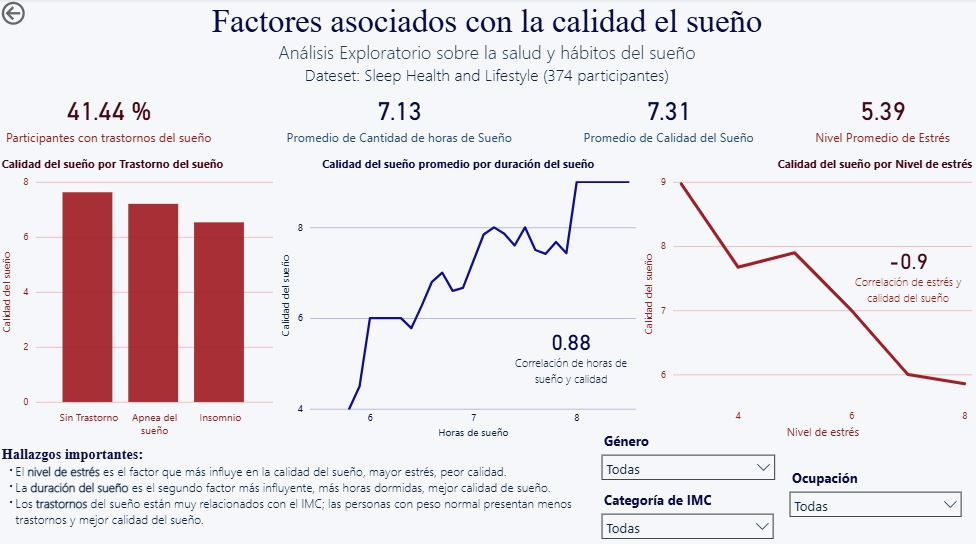

The dashboard page shown, as its layout file describes it:
{"tool":"powerbi","page":{"name":"Página 1","canvas":[1280,720],"ordinal":0},"visuals":[{"type":"textbox","box":[0,0,1280,123.3],"z":0},{"type":"card","fields":{"Values":["Avg(Sleep_health_and_lifestyle_dataset.Quality of Sleep)"]},"box":[740,106.7,276.7,100],"z":1000},{"type":"card","fields":{"Values":["Avg(Sleep_health_and_lifestyle_dataset.Sleep Duration)"]},"box":[365,106.6,320,100],"z":2000},{"type":"card","fields":{"Values":["Avg(Sleep_health_and_lifestyle_dataset.Stress Level)"]},"box":[1035,106.7,245,100],"z":3000},{"type":"card","fields":{"Values":["Sleep_health_and_lifestyle_dataset.Con_trastorno"]},"box":[0,106.6,290,100],"z":4000},{"type":"slicer","fields":{"Values":["Sleep_health_and_lifestyle_dataset.Gender"]},"box":[780,563.3,246.7,78.3],"z":5000},{"type":"actionButton","box":[0,0,100,40],"z":6000},{"type":"slicer","fields":{"Values":["Sleep_health_and_lifestyle_dataset.Occupation"]},"box":[1026.7,611.7,245,78.3],"z":8000},{"type":"slicer","fields":{"Values":["Sleep_health_and_lifestyle_dataset.BMI Category"]},"box":[780,640,245,80],"z":9000},{"type":"clusteredColumnChart","fields":{"Category":["Sleep_health_and_lifestyle_dataset.Sleep Disorder"],"Y":["Avg(Sleep_health_and_lifestyle_dataset.Quality of Sleep)"]},"box":[0,206.7,365,375],"z":10000},{"type":"textbox","box":[0,581.7,790,138.3],"z":12000},{"type":"lineChart","title":"Calidad del sueño promedio por duración del sueño","fields":{"Y":["Avg(Sleep_health_and_lifestyle_dataset.Quality of Sleep)"],"Category":["Sleep_health_and_lifestyle_dataset.Sleep Duration"]},"box":[365,206.7,475,375],"z":13000},{"type":"lineChart","fields":{"Category":["Sleep_health_and_lifestyle_dataset.Stress Level"],"Y":["Avg(Sleep_health_and_lifestyle_dataset.Quality of Sleep)"]},"box":[840,206.7,440,375],"z":13002},{"type":"textbox","box":[1101.7,323.3,178.3,106.7],"z":13004},{"type":"textbox","box":[661.7,430,178.3,106.7],"z":13005}]}

Visuals, with their boxes in screenshot pixels (x1, y1, x2, y2), scaled from the page's 1280x720 canvas onto the 976x544 screenshot:
textbox: 0/0/975/93
card - Avg(Sleep_health_and_lifestyle_dataset.Quality of Sleep): 564/81/775/156
card - Avg(Sleep_health_and_lifestyle_dataset.Sleep Duration): 278/81/522/156
card - Avg(Sleep_health_and_lifestyle_dataset.Stress Level): 789/81/975/156
card - Sleep_health_and_lifestyle_dataset.Con_trastorno: 0/81/221/156
slicer - Sleep_health_and_lifestyle_dataset.Gender: 595/426/783/485
actionButton: 0/0/76/30
slicer - Sleep_health_and_lifestyle_dataset.Occupation: 783/462/970/521
slicer - Sleep_health_and_lifestyle_dataset.BMI Category: 595/484/782/543
clusteredColumnChart - Sleep_health_and_lifestyle_dataset.Sleep Disorder x Avg(Sleep_health_and_lifestyle_dataset.Quality of Sleep): 0/156/278/440
textbox: 0/440/602/543
"Calidad del sueño promedio por duración del sueño" lineChart: 278/156/640/440
lineChart - Sleep_health_and_lifestyle_dataset.Stress Level x Avg(Sleep_health_and_lifestyle_dataset.Quality of Sleep): 640/156/975/440
textbox: 840/244/975/325
textbox: 505/325/640/406
